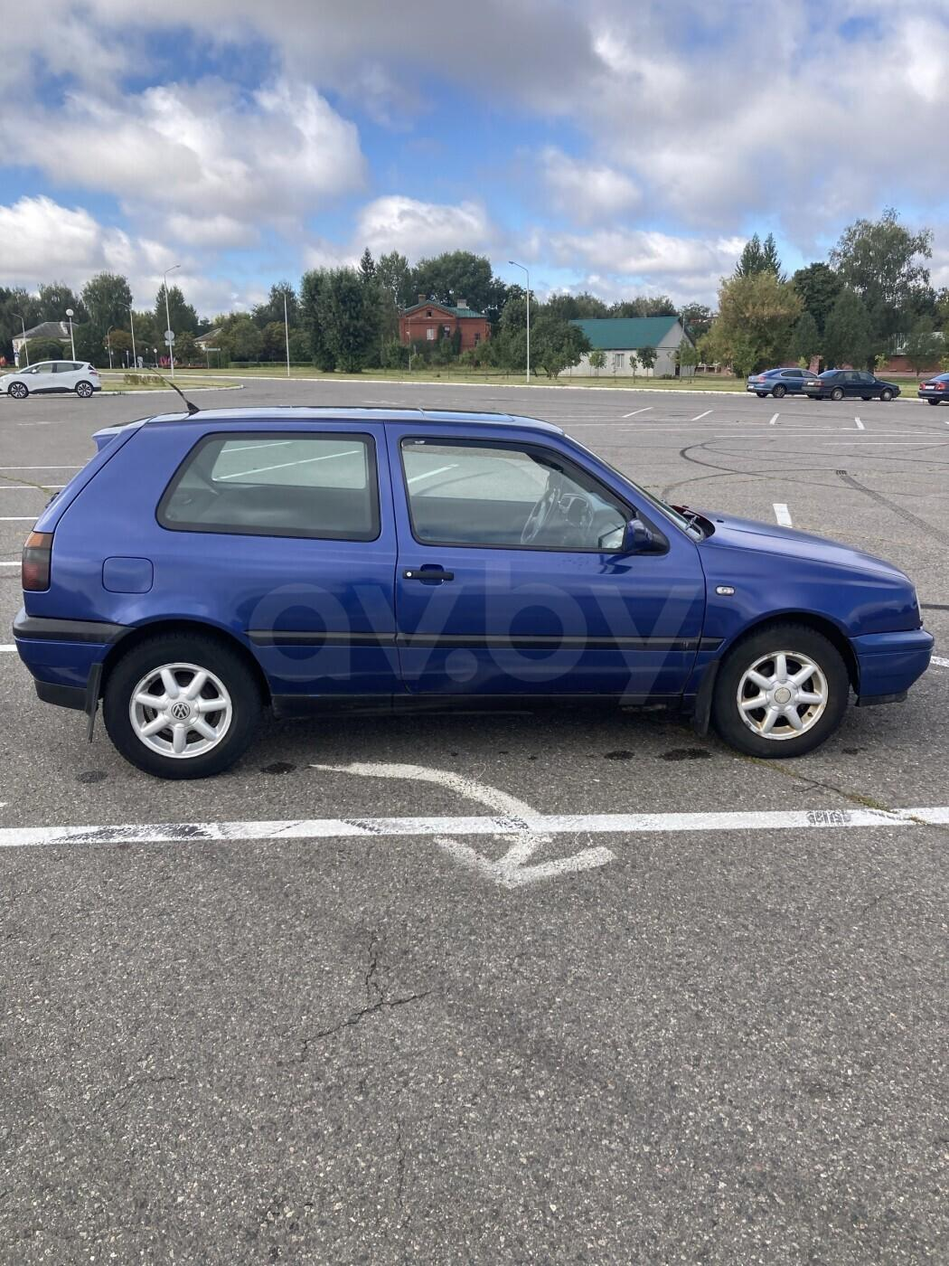Golf_1991-2000: (14, 403, 932, 783)
